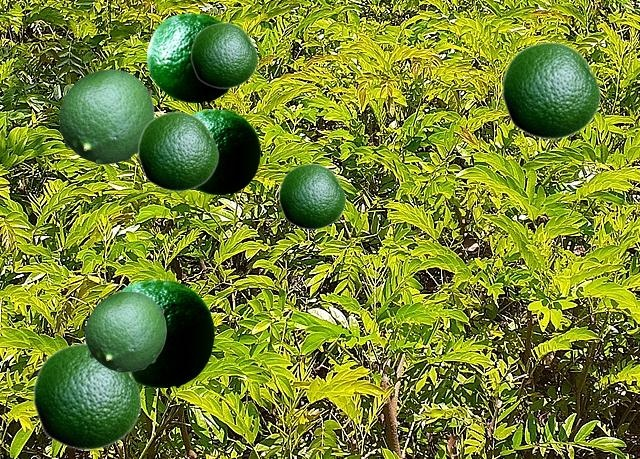calamansi: (32, 342, 141, 450), (119, 278, 213, 386), (501, 41, 600, 139), (59, 69, 153, 163), (147, 12, 229, 101), (137, 111, 218, 191), (85, 291, 165, 371), (192, 108, 259, 193), (278, 163, 345, 229), (190, 22, 257, 88)
